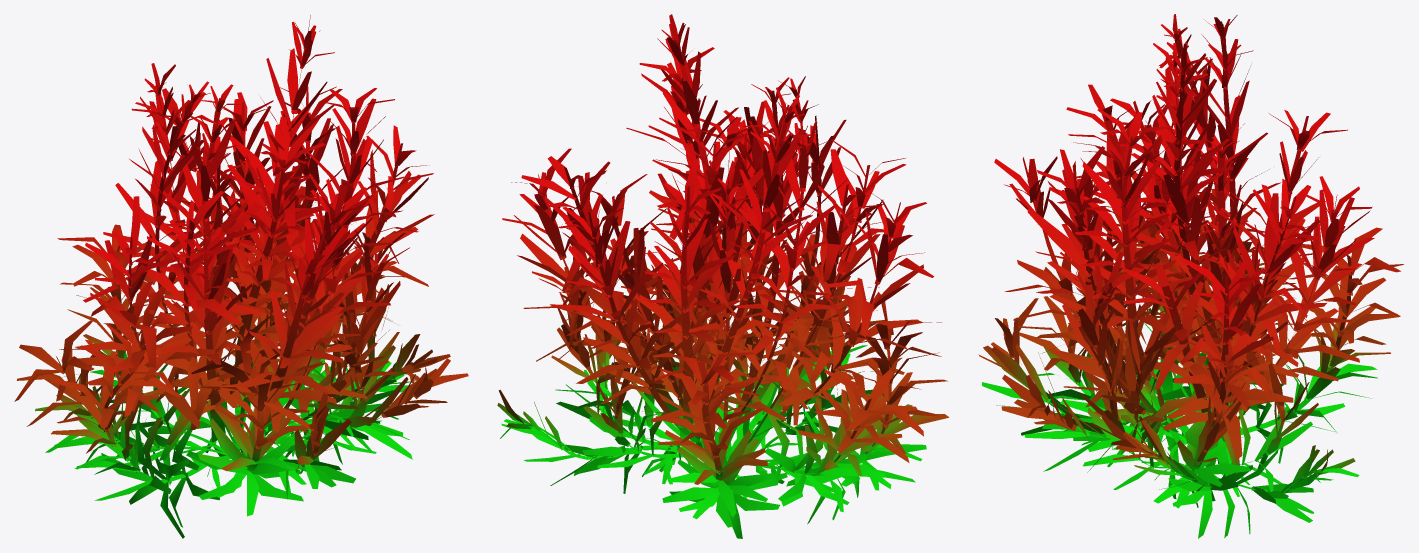
Rendered from Var2_LOD3.fbx.
3 renders of one model, left to right at view 1: azimuth 30°, elevation 25°; view 2: azimuth 150°, elevation 25°; view 3: azimuth 270°, elevation 25°, orthographic. The views are drawn at different scales.
Visible parts, largest first — view 1: _6ymz_Var2_LOD3; view 2: _6ymz_Var2_LOD3; view 3: _6ymz_Var2_LOD3.
Part boxes in pixels (x1,y1,x2,y2): _6ymz_Var2_LOD3: [14, 15, 468, 538]; _6ymz_Var2_LOD3: [497, 14, 948, 538]; _6ymz_Var2_LOD3: [978, 14, 1403, 538].
Size of the model in its own units: 26.94 by 29.69 by 23.46.
